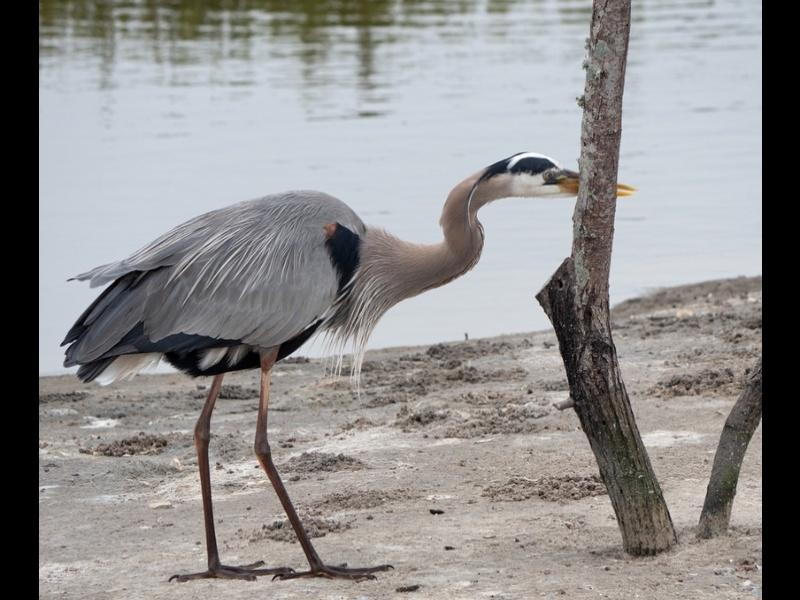heron: (61, 148, 640, 589)
